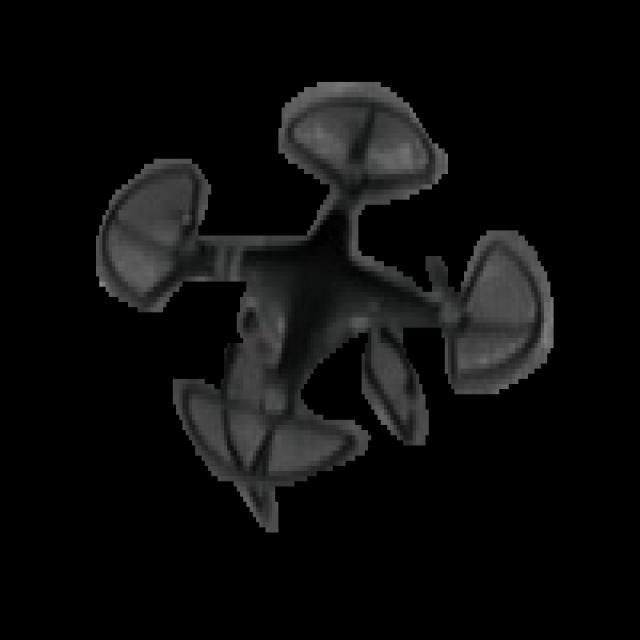drone: (73, 62, 565, 551)
